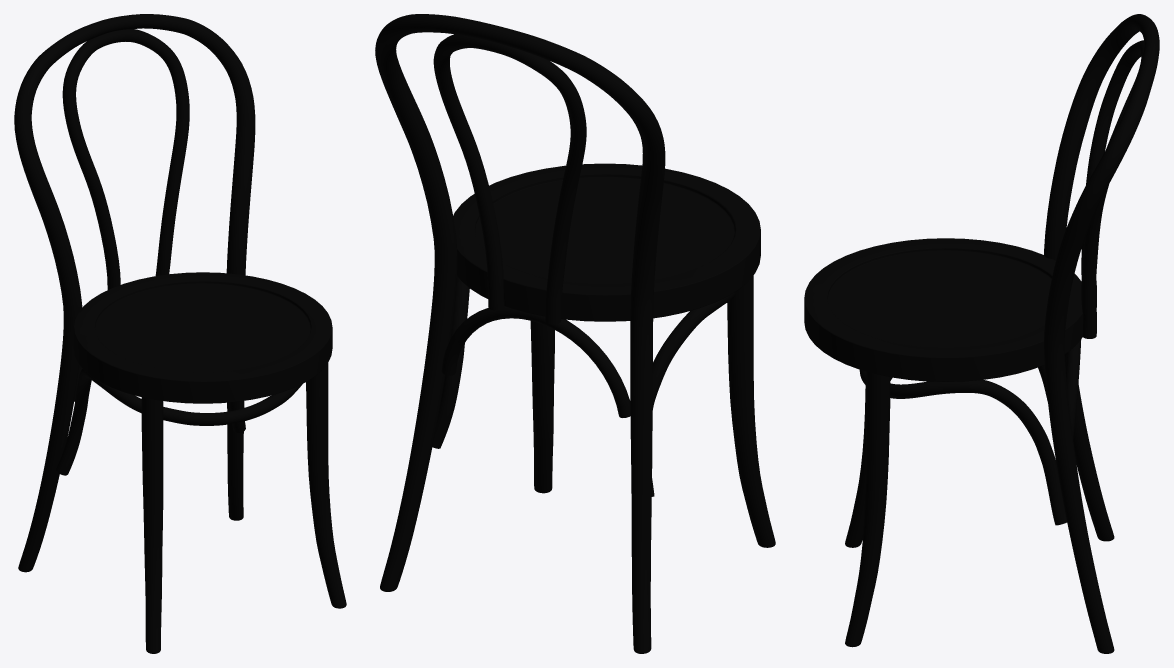
Rendered from chair_46_02.001.fbx.
The picture shows the model from 3 angles, left to right: view 1: azimuth 30°, elevation 25°; view 2: azimuth 150°, elevation 25°; view 3: azimuth 270°, elevation 25°; orthographic projection. The views are drawn at different scales.
Visible parts, largest first — view 1: chair_46_02.001; view 2: chair_46_02.001; view 3: chair_46_02.001.
Part boxes in pixels (left/top/right/bottom): chair_46_02.001: left=14, top=14, right=346, bottom=653; chair_46_02.001: left=375, top=14, right=775, bottom=653; chair_46_02.001: left=804, top=14, right=1159, bottom=653.
Size of the model in its own units: 42.93 by 89.93 by 51.97.
Materials: 1 (1 with a texture image).
